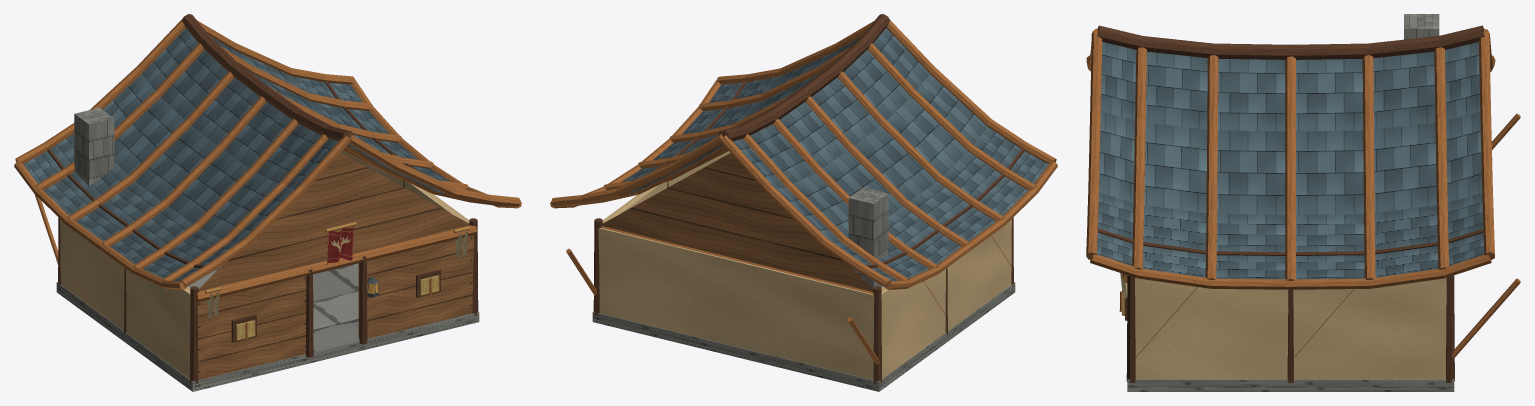
The model's file is tavern.glb.
The picture shows the model from 3 angles, left to right: view 1: azimuth 30°, elevation 25°; view 2: azimuth 150°, elevation 25°; view 3: azimuth 270°, elevation 25°; orthographic projection. The views are drawn at different scales.
Parts seen in each view (by area): view 1: tavern_F4; view 2: tavern_F4; view 3: tavern_F4.
Boxes of the visible parts, x1,y1,x2,y2 form: tavern_F4: (14, 14, 521, 391); tavern_F4: (550, 14, 1057, 391); tavern_F4: (1086, 14, 1520, 391).
Size of the model in its own units: 13.49 by 8.85 by 12.36.
Materials: 1 (1 with a texture image).
